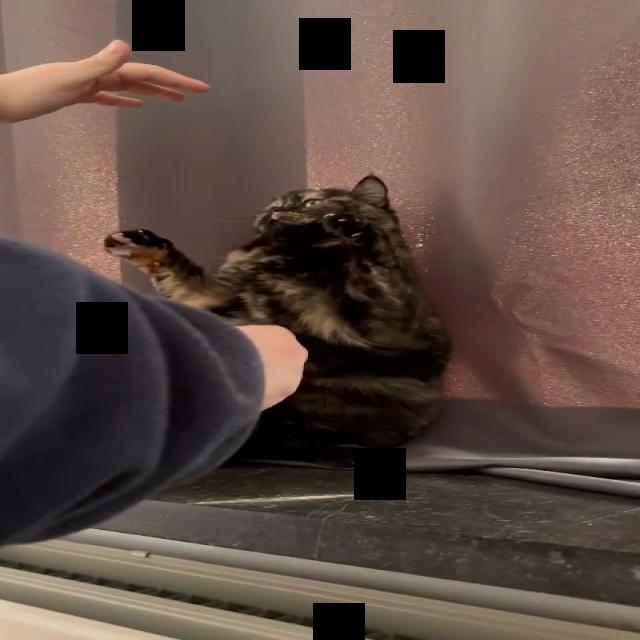authorized: (103, 172, 453, 468)
